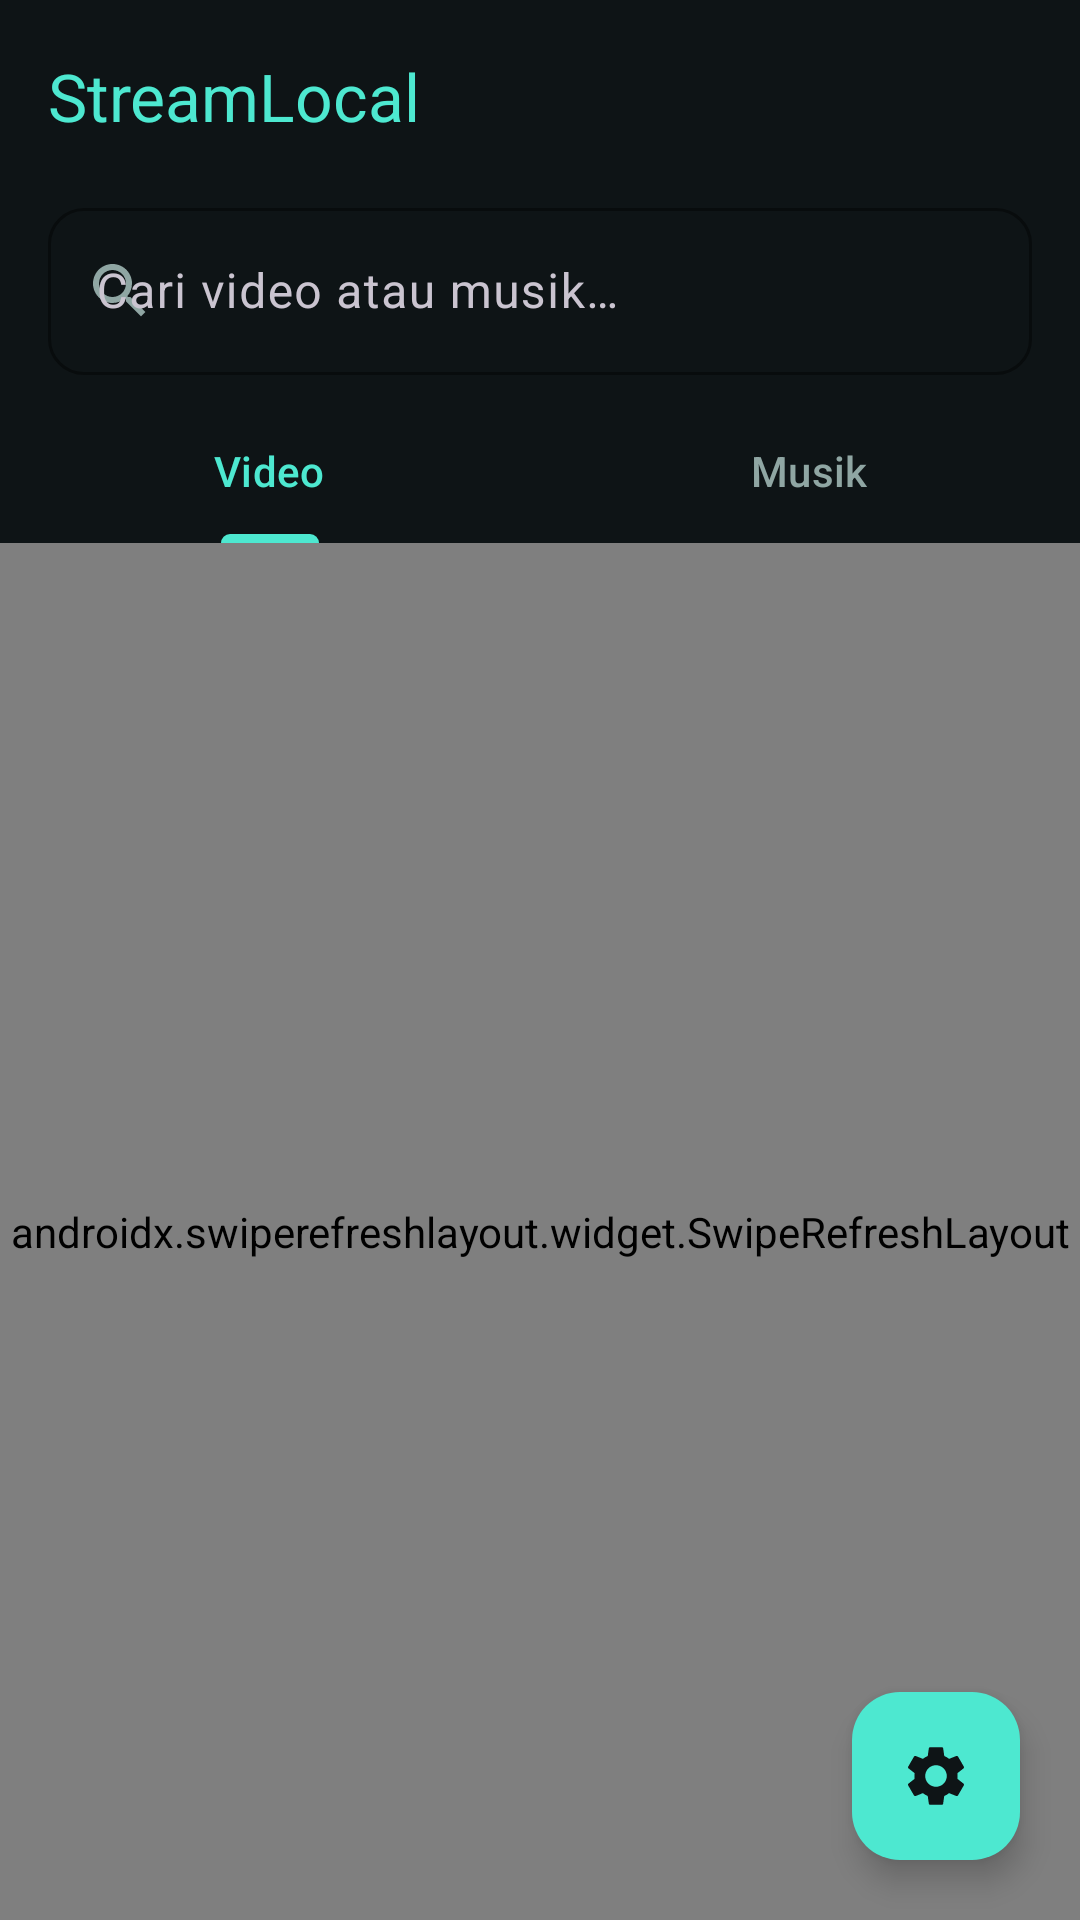

Icon bounding boxes for this 1080 × 1920 phone screenshot, format (x1, y1, x2, y2):
Pengaturan: (852, 1692, 1020, 1860)
